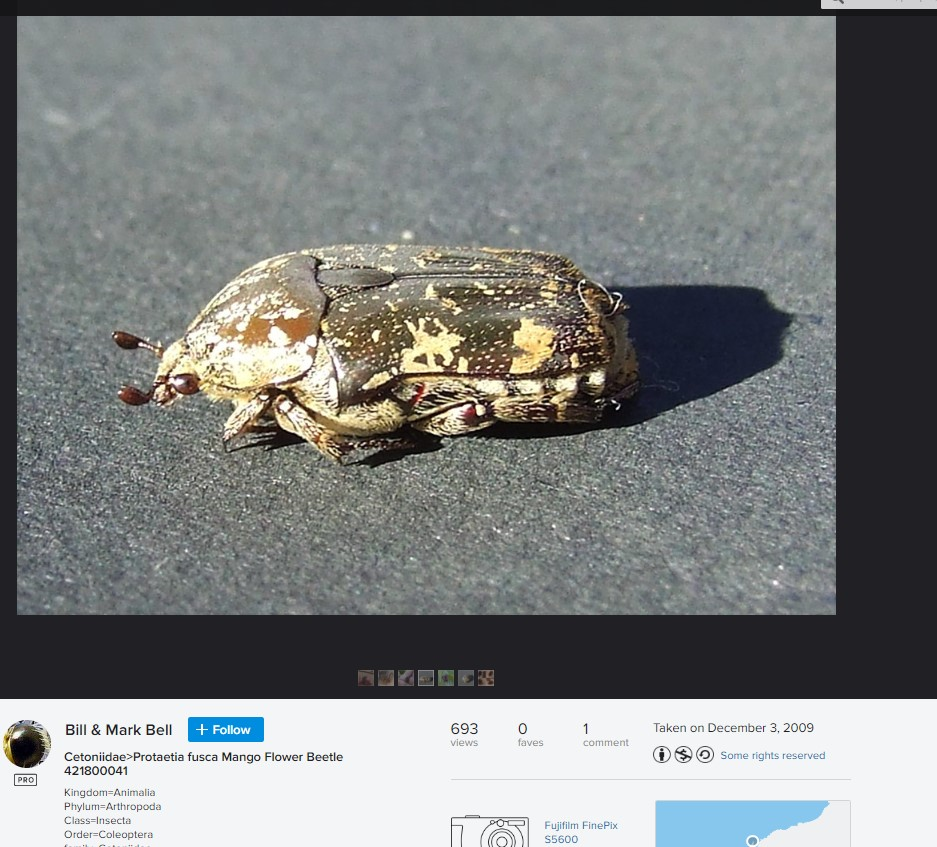Protaetia_fusca: (101, 238, 643, 471)
